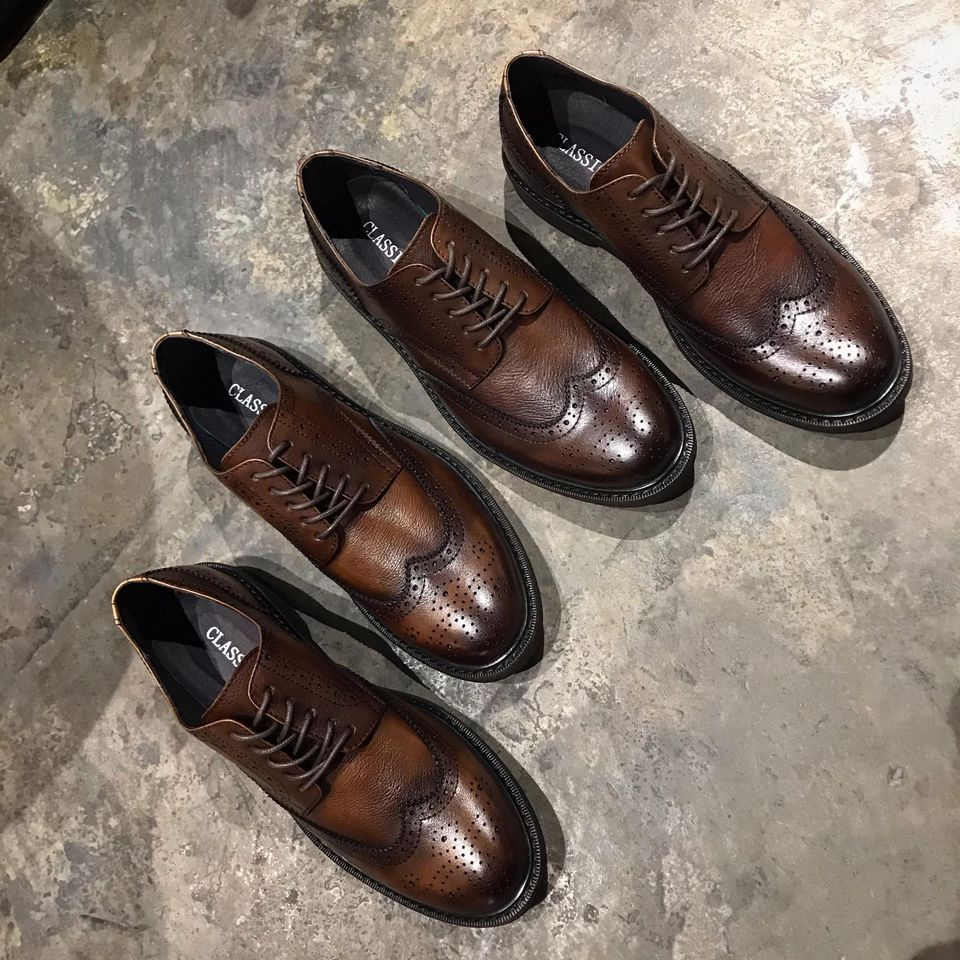derby: (496, 54, 911, 439), (109, 563, 548, 926), (294, 149, 700, 513), (145, 328, 540, 682)
